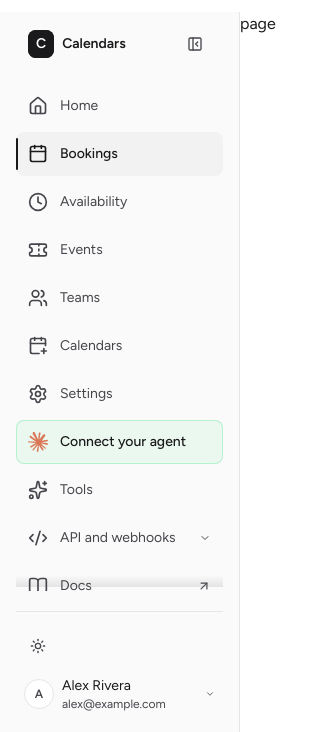
Scenario: AdminShell: the API and webhooks group › starts closed elsewhere, and the button toggles it
Click the button with test id "nav-api".
click(120, 538)  # box [16,516,223,560]
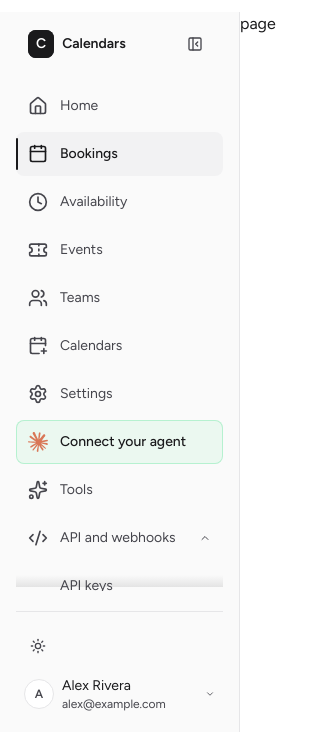
Click the button with test id "nav-api".
click(120, 538)  # box [16,516,223,560]
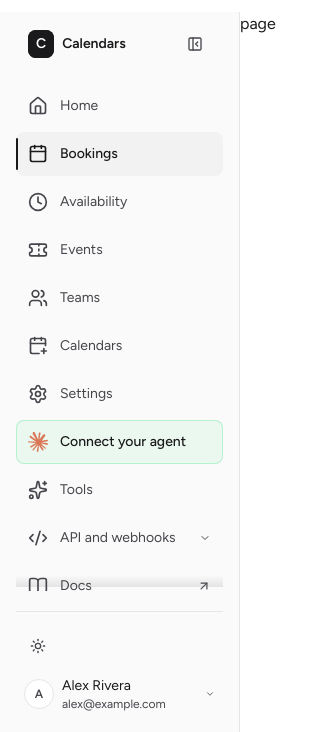
Expected: the list with test id "nav-api-pages" is gone
